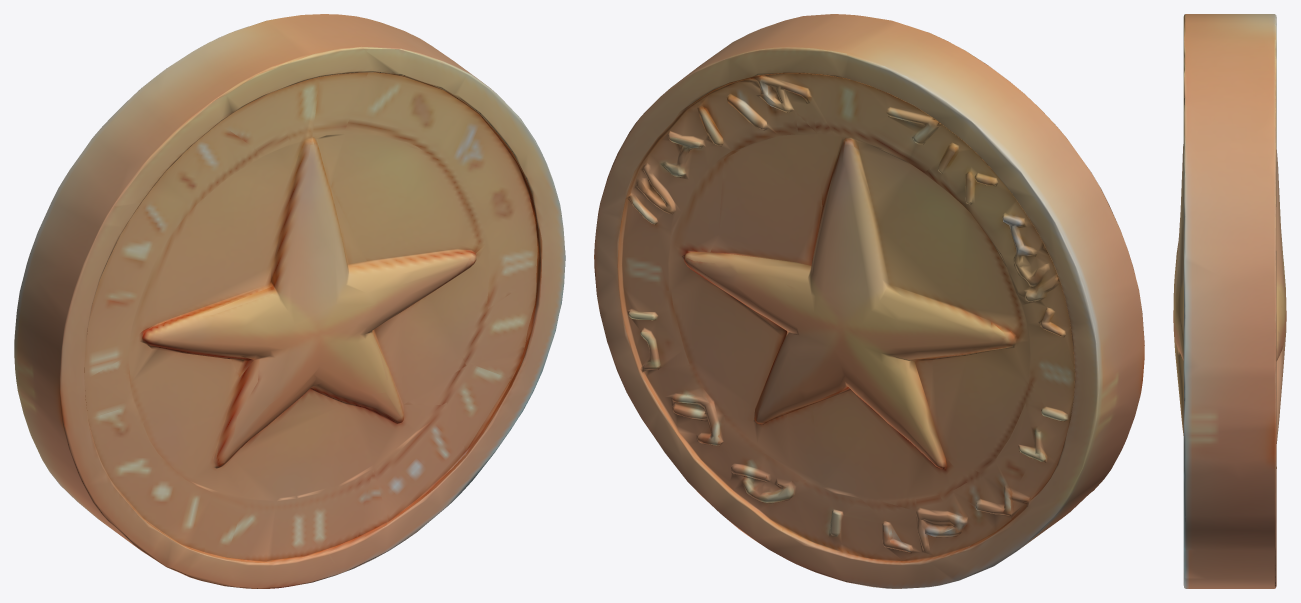
3 renders of one model, left to right at view 1: azimuth 30°, elevation 25°; view 2: azimuth 150°, elevation 25°; view 3: azimuth 270°, elevation 25°, orthographic.
Visible parts, largest first — view 1: archon-sigil; view 2: archon-sigil; view 3: archon-sigil.
Part boxes in pixels (left/top/right/bottom): archon-sigil: left=14, top=14, right=565, bottom=588; archon-sigil: left=594, top=14, right=1144, bottom=588; archon-sigil: left=1173, top=14, right=1286, bottom=588.
Size of the model in its own units: 0.336 by 0.3357 by 0.0658.
1 material, 1 textured.
